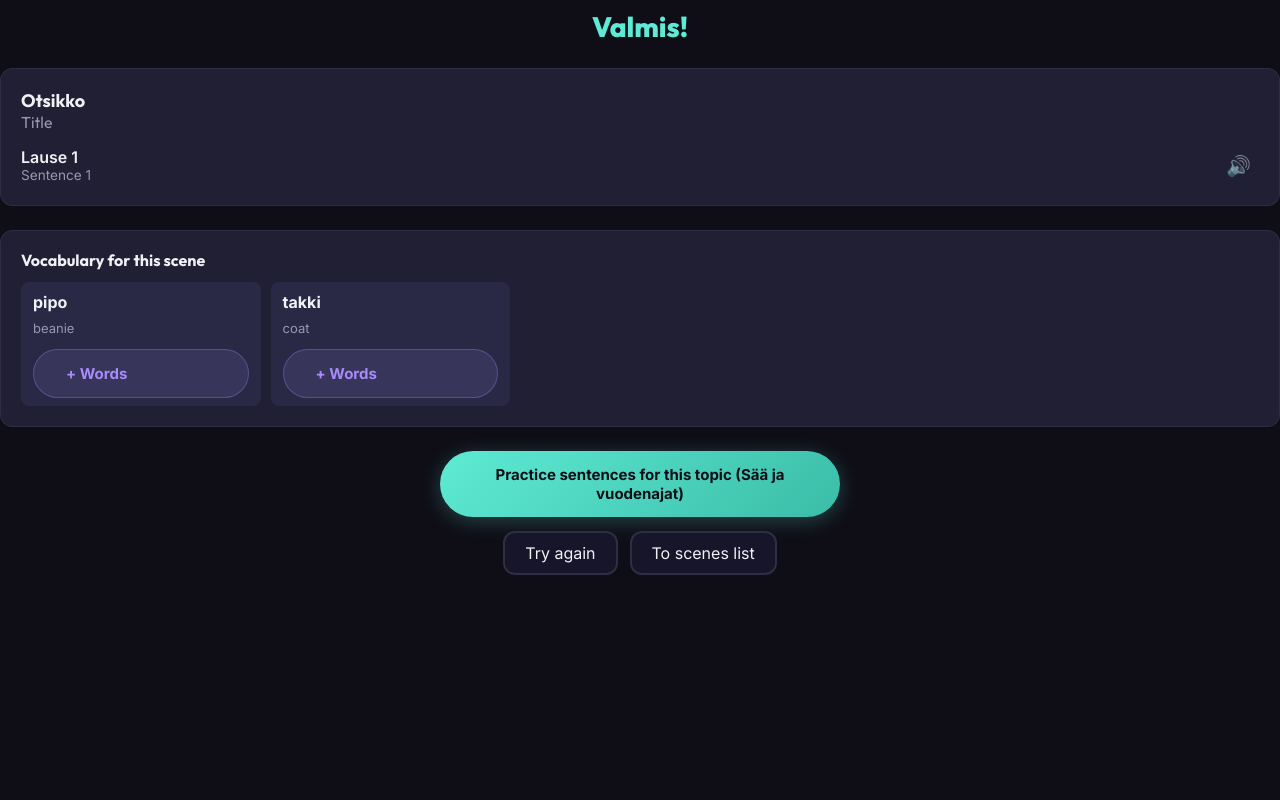
Test case: Scene UI Components › SceneResult › adds a vocabulary word to the word book and updates button to added and disabled
The width and height of the screenshot is (1280, 800).
Click the button "+ Words" below "pipo".
click(141, 373)  # box [33, 349, 249, 398]
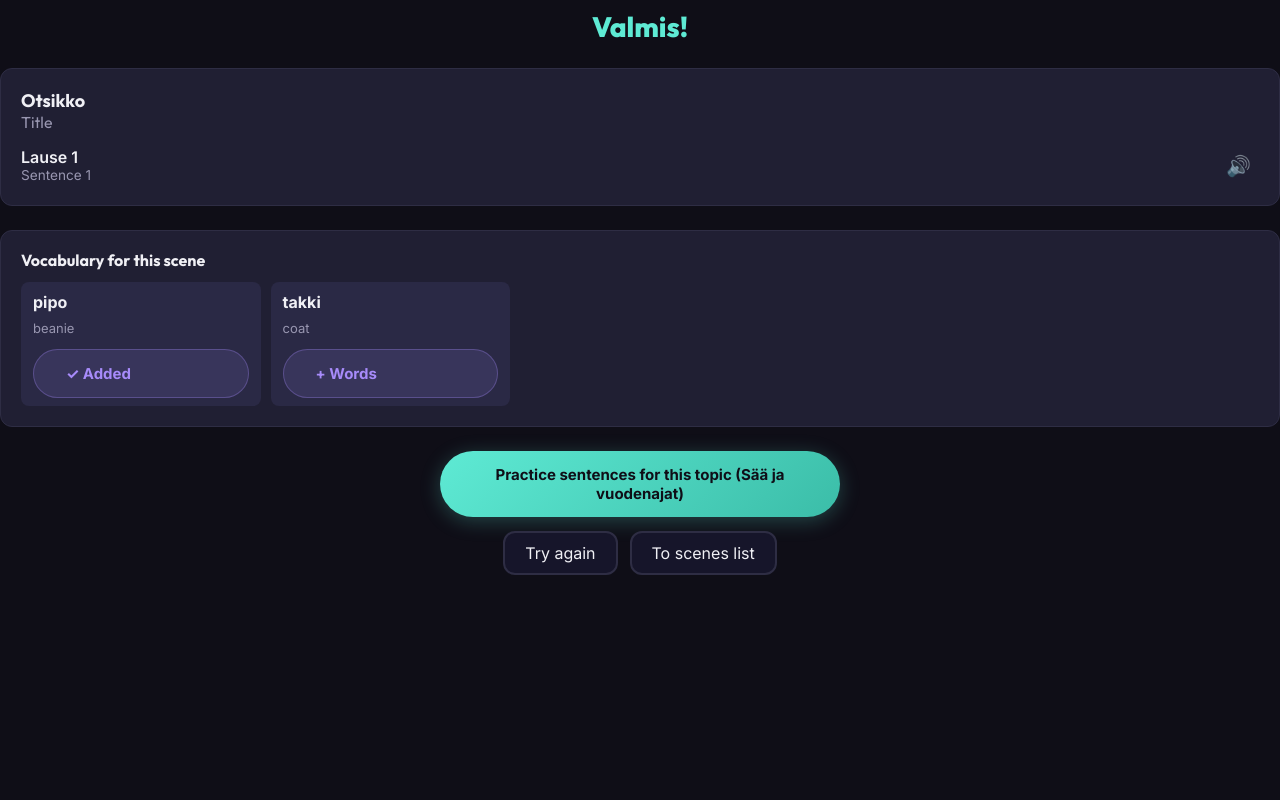
expect the number of buttons "+ Words" is 1: met, box [283, 349, 498, 398]
expect the button "✓ Added" is disabled: met, box [33, 349, 249, 398]
